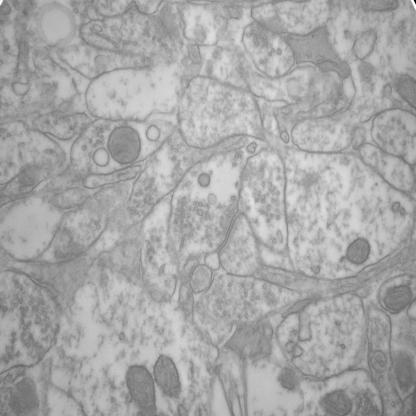mitochondria: (105, 121, 147, 167), (126, 363, 157, 415), (153, 352, 183, 400), (344, 234, 374, 267), (319, 388, 354, 416), (383, 283, 414, 312)
